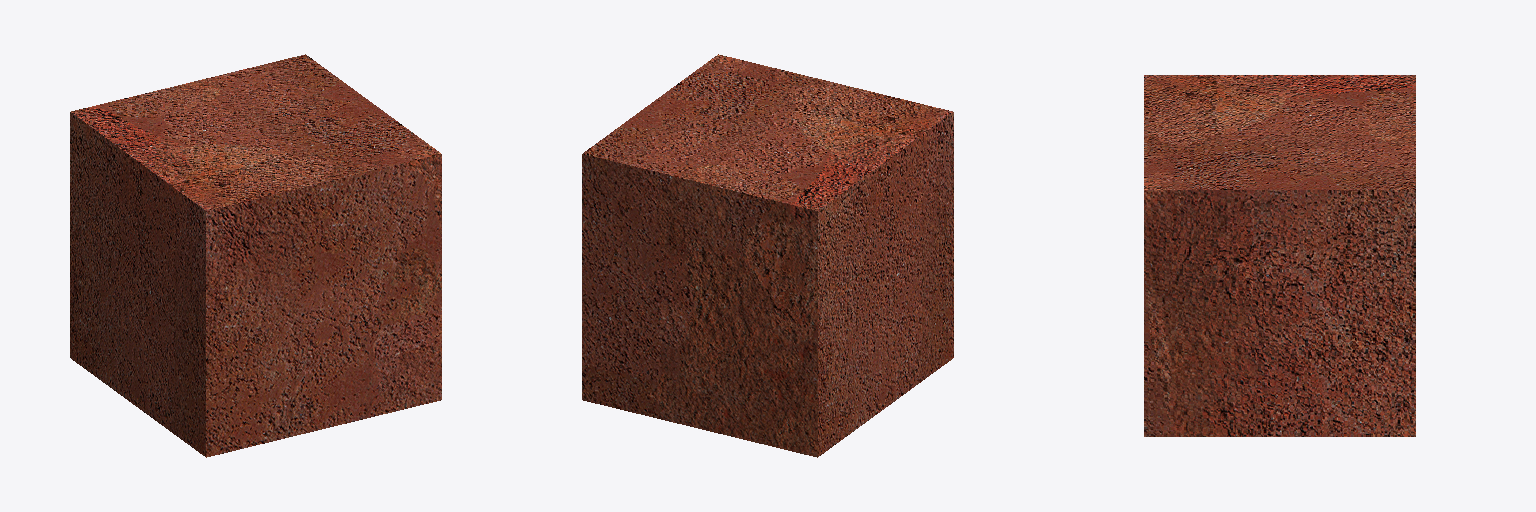
3 renders of one model, left to right at view 1: azimuth 30°, elevation 25°; view 2: azimuth 150°, elevation 25°; view 3: azimuth 270°, elevation 25°, orthographic.
Parts seen in each view (by area): view 1: Cube; view 2: Cube; view 3: Cube.
Boxes of the visible parts, <box> form: Cube: <box>70,54,441,457</box>; Cube: <box>582,54,953,457</box>; Cube: <box>1144,75,1415,436</box>.
Bounding box in the file's own units: 1 × 1 × 1.
Materials: 1 (1 with a texture image).